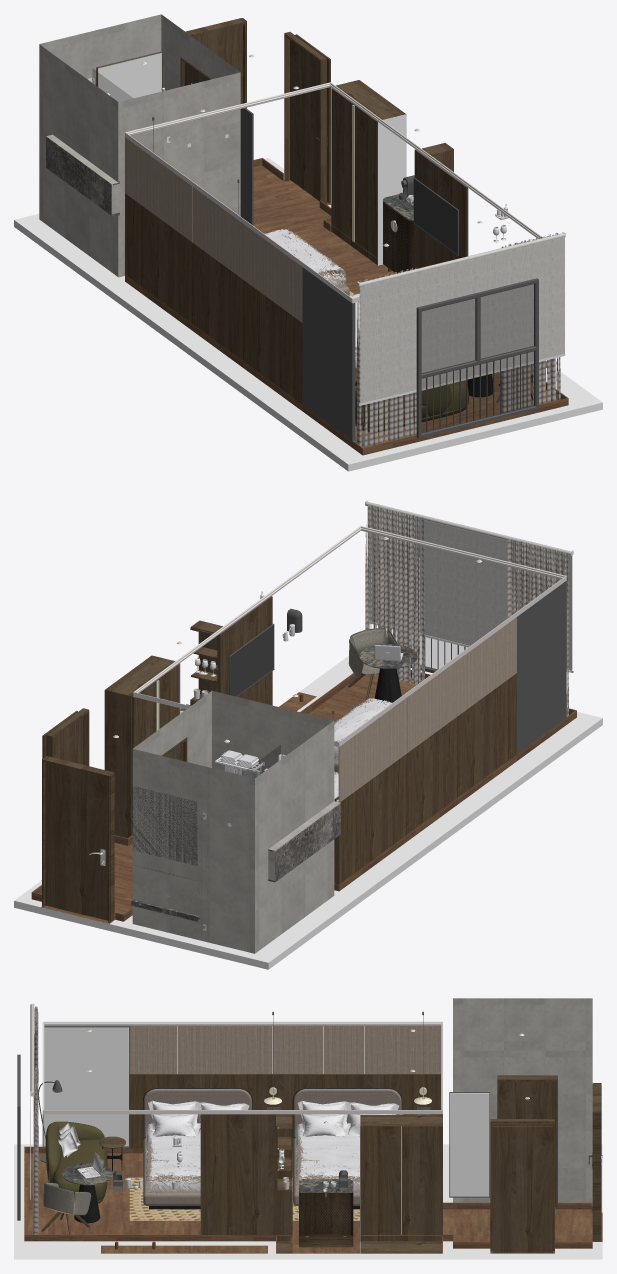
The model's file is hab216.glb.
3 views of the same model, one above another, from view 1: azimuth 30°, elevation 25°; view 2: azimuth 150°, elevation 25°; view 3: azimuth 270°, elevation 25° (orthographic). The views are drawn at different scales.
Visible parts, largest first — view 1: BANO_Geom3D.072, Geom3D.114, Geom3D.342, Geom3D_.121, Geom3D_.039, Geom3D_.185, Geom3D.067, Geom3D.080, Geom3D_.186, Geom3D.006, Geom3D_.038, Geom3D_.143 (+16 smaller); view 2: BANO_Geom3D.072, Geom3D.342, Geom3D_.121, Geom3D.114, Geom3D, Geom3D_.185, Geom3D.113, Geom3D_.186, Geom3D.067, Geom3D_.143, Geom3D.080, BANO_Geom3D_.177 (+13 smaller); view 3: BANO_Geom3D.072, Geom3D_.185, Geom3D.067, Geom3D.080, Geom3D.345, Geom3D.343, Geom3D_.121, Geom3D.008, Geom3D.342, Geom3D_.143, Geom3D.068, Geom3D.116 (+30 smaller).
Boxes of the visible parts, bbox=[...] form: BANO_Geom3D.072: bbox=[39, 14, 240, 277]; Geom3D.114: bbox=[360, 236, 564, 403]; Geom3D.342: bbox=[125, 193, 302, 404]; Geom3D_.121: bbox=[14, 158, 602, 471]; Geom3D_.039: bbox=[422, 284, 534, 433]; Geom3D_.185: bbox=[125, 137, 302, 322]; Geom3D.067: bbox=[331, 80, 405, 264]; Geom3D.080: bbox=[253, 165, 557, 447]; Geom3D_.186: bbox=[302, 267, 355, 440]; Geom3D.006: bbox=[290, 40, 319, 200]; Geom3D_.038: bbox=[416, 278, 538, 438]; Geom3D_.143: bbox=[125, 82, 542, 303]; BANO_Geom3D.072: bbox=[132, 691, 340, 953]; Geom3D.342: bbox=[334, 673, 516, 884]; Geom3D_.121: bbox=[14, 656, 602, 969]; Geom3D.114: bbox=[367, 506, 572, 670]; Geom3D: bbox=[42, 756, 114, 923]; Geom3D_.185: bbox=[338, 617, 516, 802]; Geom3D.113: bbox=[365, 504, 424, 685]; Geom3D_.186: bbox=[517, 581, 566, 753]; Geom3D.067: bbox=[104, 655, 179, 838]; Geom3D_.143: bbox=[133, 526, 566, 746]; Geom3D.080: bbox=[40, 673, 567, 923]; BANO_Geom3D_.177: bbox=[132, 786, 197, 865]; BANO_Geom3D.072: bbox=[453, 998, 592, 1202]; Geom3D_.185: bbox=[129, 1026, 440, 1073]; Geom3D.067: bbox=[360, 1115, 442, 1253]; Geom3D.080: bbox=[25, 1153, 602, 1253]; Geom3D.345: bbox=[200, 1114, 292, 1241]; Geom3D.343: bbox=[43, 1027, 128, 1146]; Geom3D_.121: bbox=[14, 1144, 602, 1259]; Geom3D.008: bbox=[492, 1126, 552, 1253]; Geom3D.342: bbox=[129, 1074, 442, 1148]; Geom3D_.143: bbox=[42, 1021, 442, 1114]; Geom3D.068: bbox=[450, 1093, 489, 1196]; Geom3D.116: bbox=[24, 1146, 592, 1253].
Size of the model in its own units: 3.8 by 2.6 by 8.65.
Materials: 133 (119 with a texture image).
